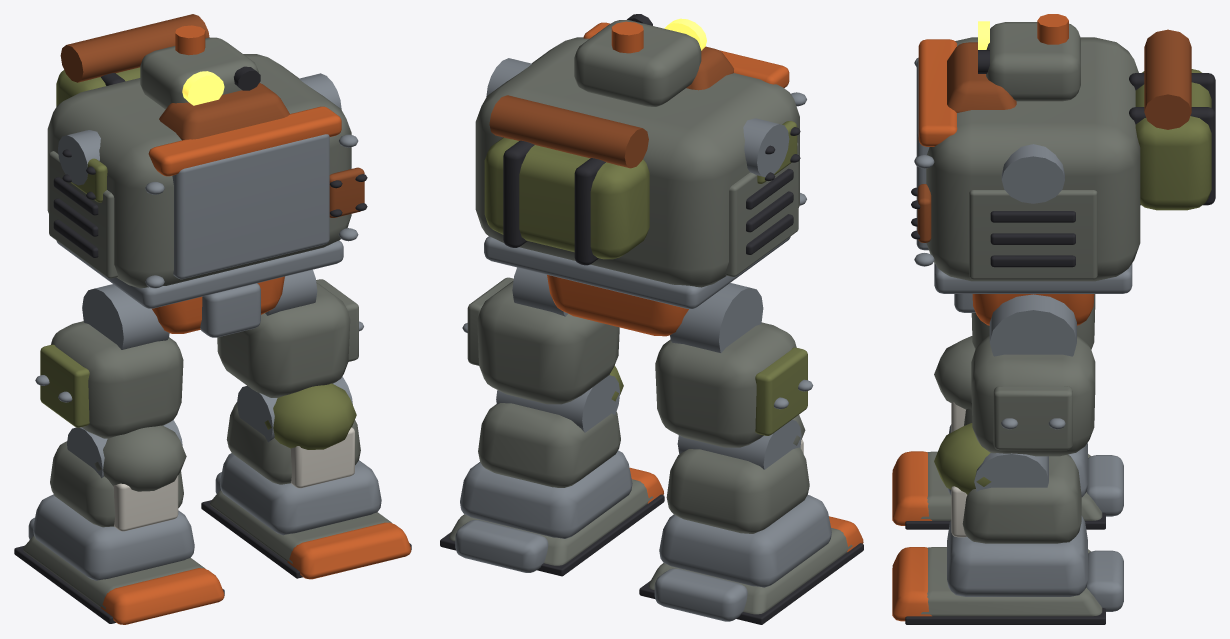
File: ch_dredge.glb
3 views of the same model, side by side, from view 1: azimuth 30°, elevation 25°; view 2: azimuth 150°, elevation 25°; view 3: azimuth 270°, elevation 25° (orthographic). The views are drawn at different scales.
Visible parts, largest first — view 1: ch_dredge, limb_leg_l, limb_leg_r; view 2: ch_dredge, limb_leg_l, limb_leg_r; view 3: ch_dredge, limb_leg_r, limb_leg_l.
Boxes of the visible parts, x1,y1,x2,y2 form: ch_dredge: (47, 14, 367, 337); limb_leg_l: (14, 284, 224, 624); limb_leg_r: (201, 269, 411, 579); ch_dredge: (475, 14, 806, 336); limb_leg_l: (639, 283, 863, 624); limb_leg_r: (440, 267, 664, 576); ch_dredge: (911, 14, 1215, 325); limb_leg_r: (892, 294, 1123, 624); limb_leg_l: (892, 294, 1123, 529).
Size of the model in its own units: 0.4676 by 0.7414 by 0.4112.
